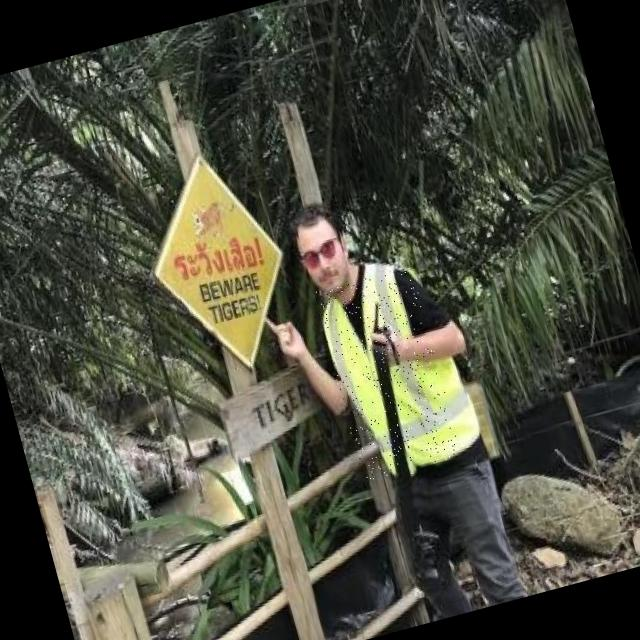safety_vest: (313, 266, 462, 482)
